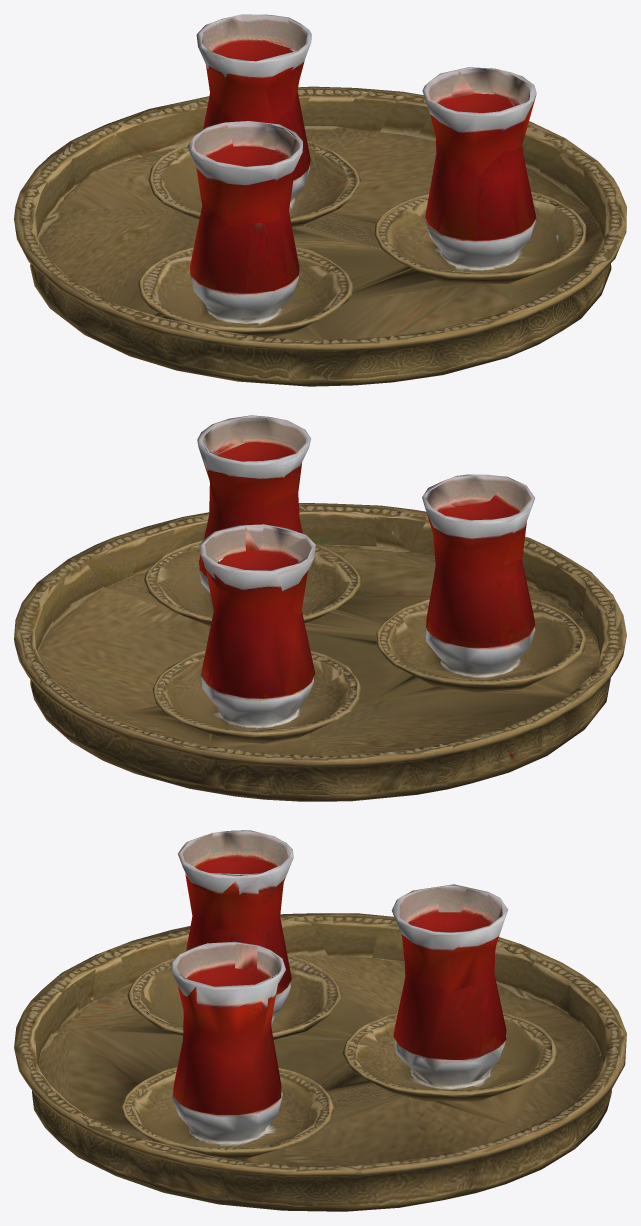
Rendered from tray.glb.
The picture shows the model from 3 angles, top to bottom: view 1: azimuth 30°, elevation 25°; view 2: azimuth 150°, elevation 25°; view 3: azimuth 270°, elevation 25°; orthographic projection.
Visible parts, largest first — view 1: Mesh_0; view 2: Mesh_0; view 3: Mesh_0.
Part boxes in pixels (left/top/right/bottom): Mesh_0: left=14, top=14, right=626, bottom=386; Mesh_0: left=14, top=415, right=626, bottom=801; Mesh_0: left=14, top=830, right=626, bottom=1211.
Size of the model in its own units: 0.3994 by 0.1296 by 0.3992.
Materials: 1 (1 with a texture image).
